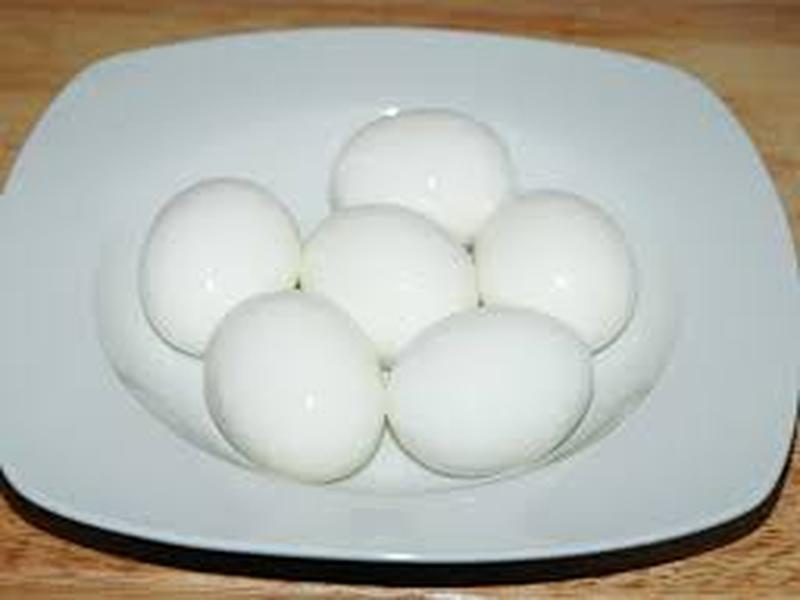egg: (205, 296, 377, 473)
